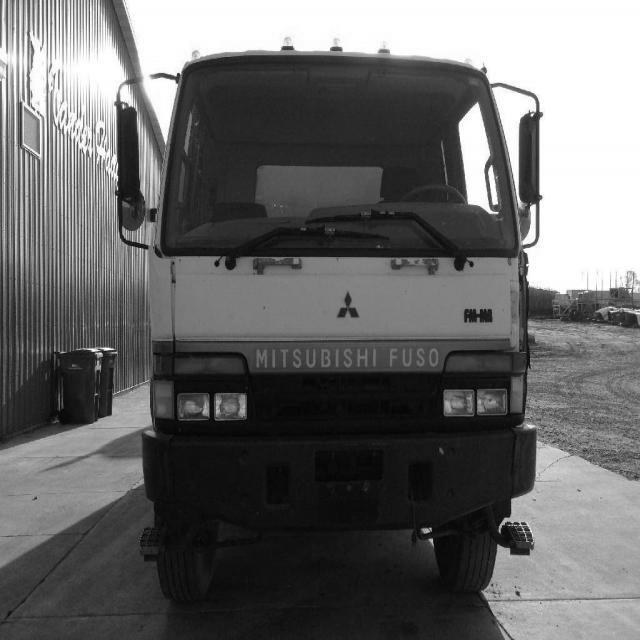truck: (108, 25, 555, 600)
